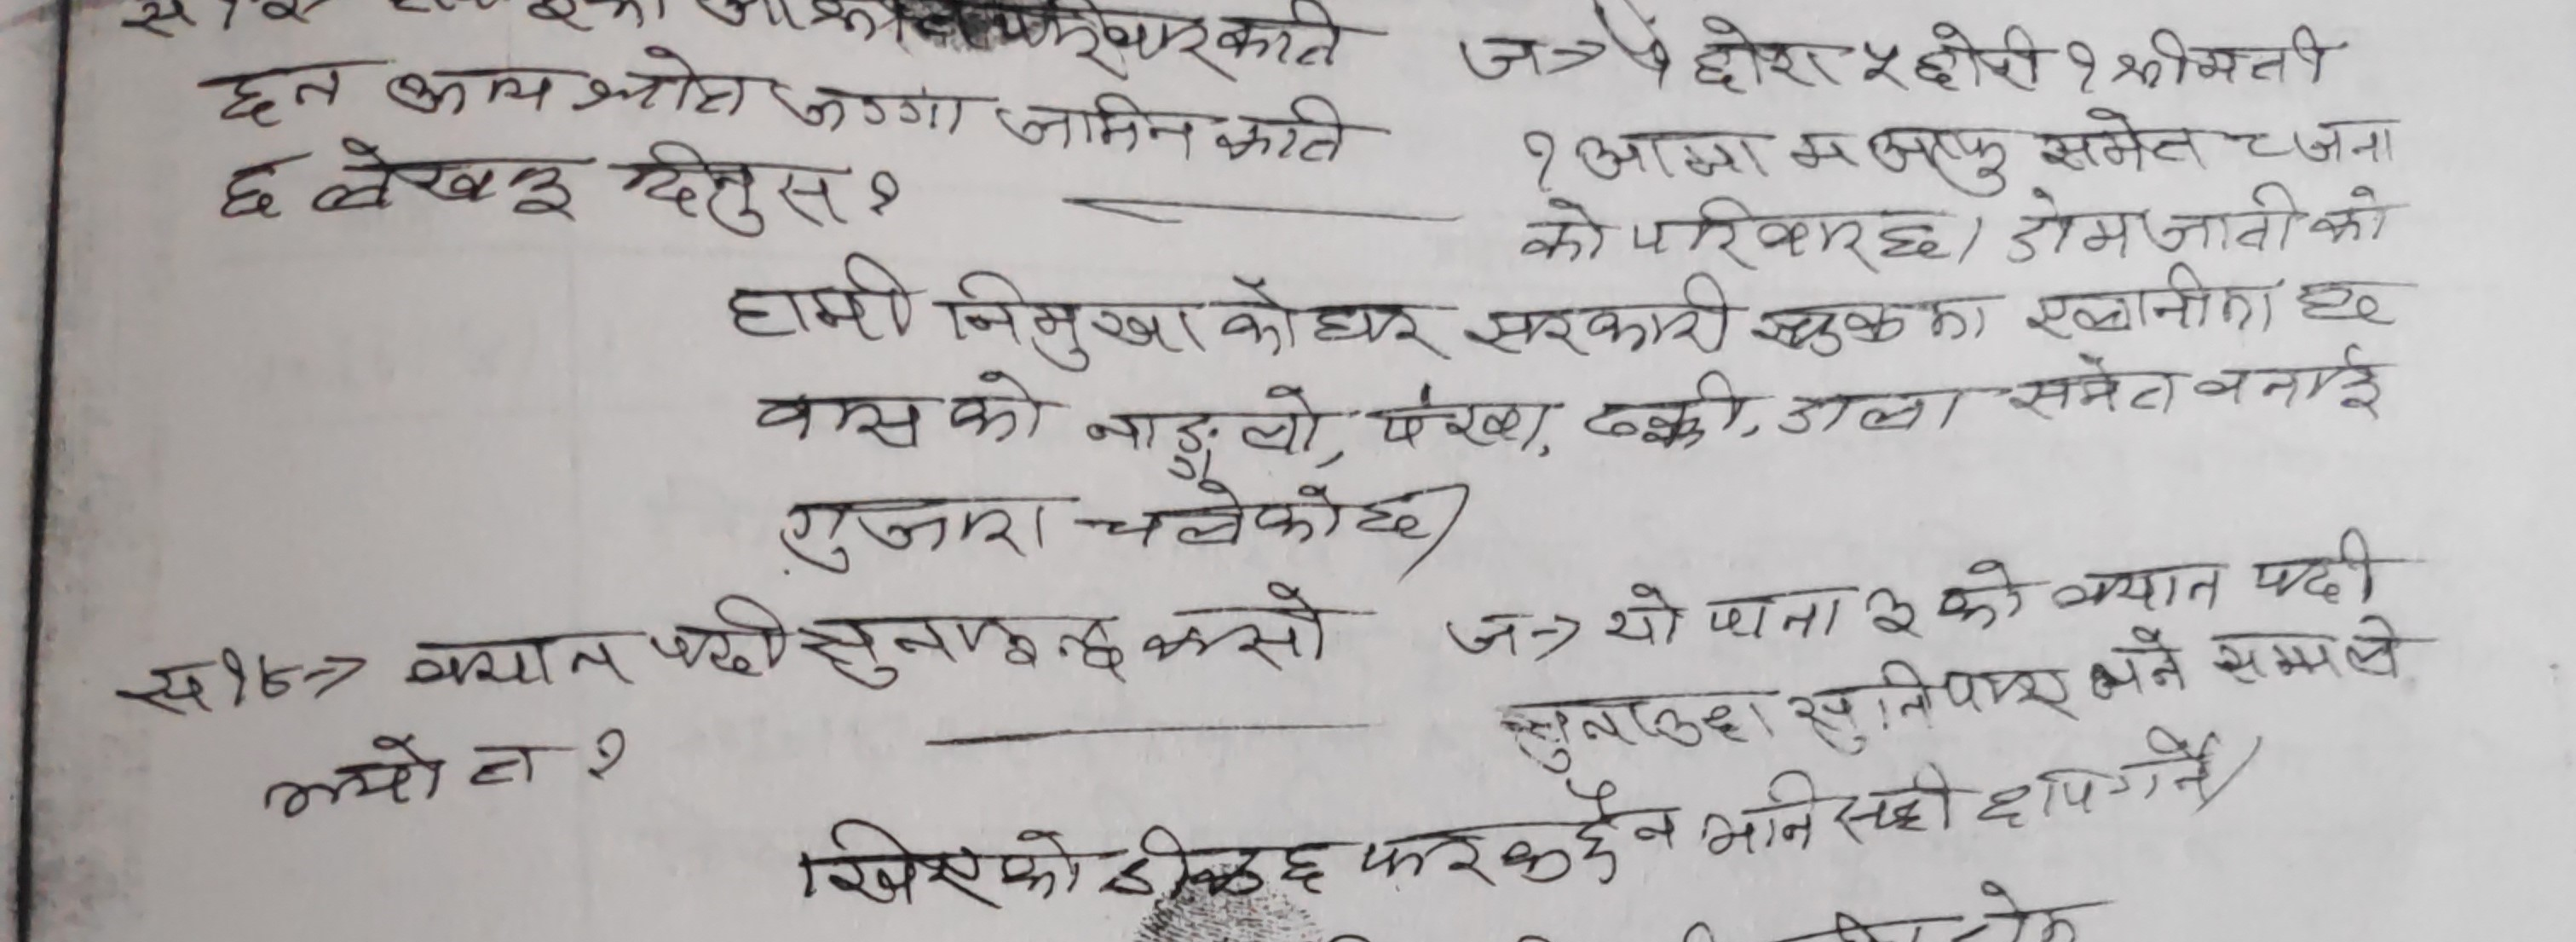text: (941, 256, 1308, 373), (789, 597, 1127, 700), (1784, 658, 2081, 760), (746, 362, 1061, 452), (775, 482, 1065, 579), (789, 812, 1086, 906), (1628, 187, 1947, 271), (1492, 681, 1776, 774), (626, 136, 856, 247), (306, 136, 577, 229), (1460, 270, 1746, 357), (1091, 383, 1327, 480), (2136, 179, 2399, 261), (1081, 475, 1349, 556), (724, 252, 925, 355), (2021, 261, 2287, 339), (1130, 579, 1332, 677), (260, 730, 452, 830), (396, 628, 642, 704), (2116, 23, 2351, 102), (1109, 825, 1342, 904), (1750, 291, 2001, 363), (2205, 608, 2422, 692), (2187, 337, 2399, 423), (996, 81, 1201, 164), (1359, 819, 1572, 894), (1365, 376, 1559, 459), (1566, 113, 1776, 187), (770, 72, 979, 146), (1681, 12, 1837, 109), (1575, 367, 1745, 454), (582, 44, 757, 127), (1866, 118, 2017, 205), (1567, 784, 1690, 891), (646, 592, 789, 684), (2001, 350, 2178, 424), (2042, 100, 2208, 179), (1690, 766, 1824, 861), (1776, 380, 1975, 442), (383, 54, 557, 125), (2050, 556, 2233, 623), (2254, 516, 2382, 608), (1912, 21, 2057, 102), (2003, 182, 2139, 265), (1832, 761, 1958, 848), (1219, 90, 1360, 166), (2104, 720, 2228, 806), (214, 58, 353, 132), (1699, 584, 1848, 648), (2086, 623, 2195, 707), (1513, 187, 1618, 271), (1598, 579, 1694, 659), (1935, 554, 2026, 636), (1313, 293, 1431, 355), (2290, 268, 2397, 335), (2290, 110, 2399, 173), (214, 148, 291, 232), (1354, 485, 1428, 556), (467, 727, 545, 791), (1786, 125, 1865, 186), (1860, 572, 1927, 641), (2058, 33, 2109, 109), (2226, 117, 2287, 171), (1858, 31, 1904, 84)
